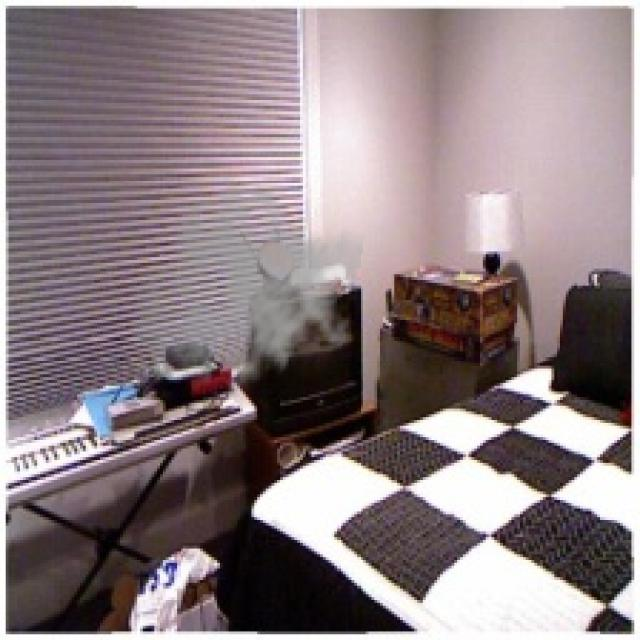smoke: (128, 172, 366, 408)
